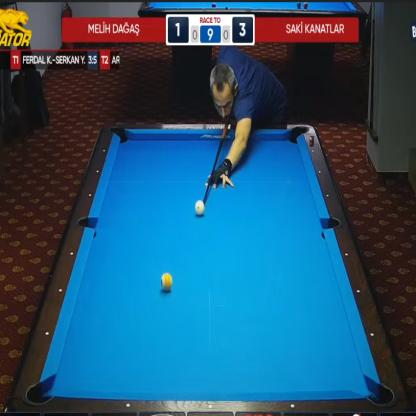Ball: (161, 272, 172, 291), (194, 201, 205, 216)
